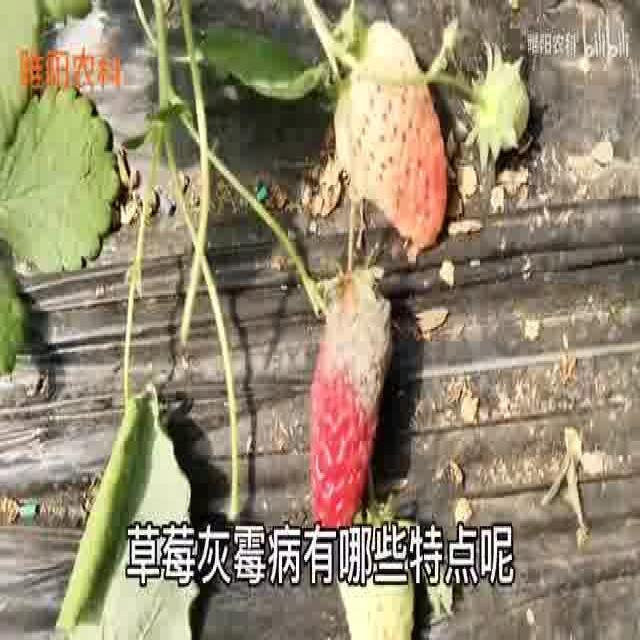Moho gris: (309, 276, 389, 520)
